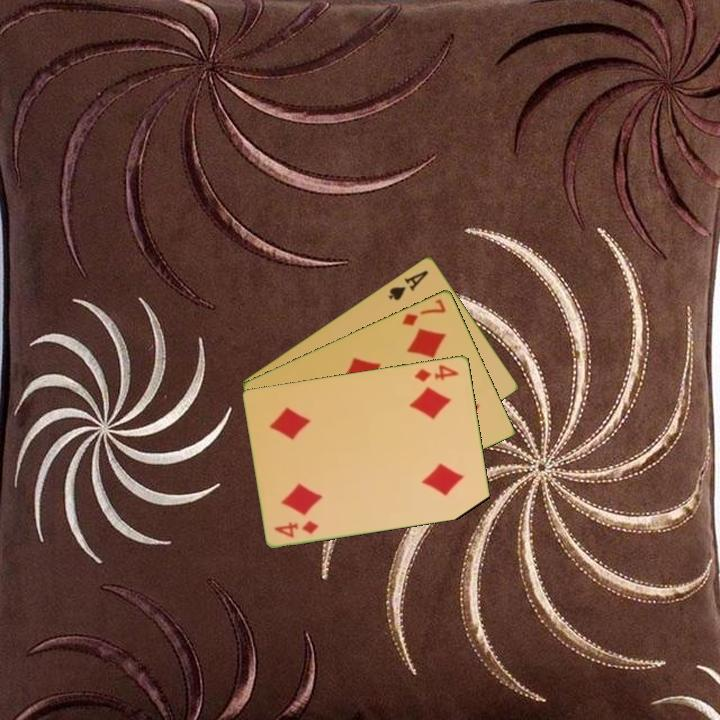4d: (411, 361, 461, 385), (271, 517, 322, 540)
7d: (399, 295, 449, 329)
As: (385, 266, 431, 303)
